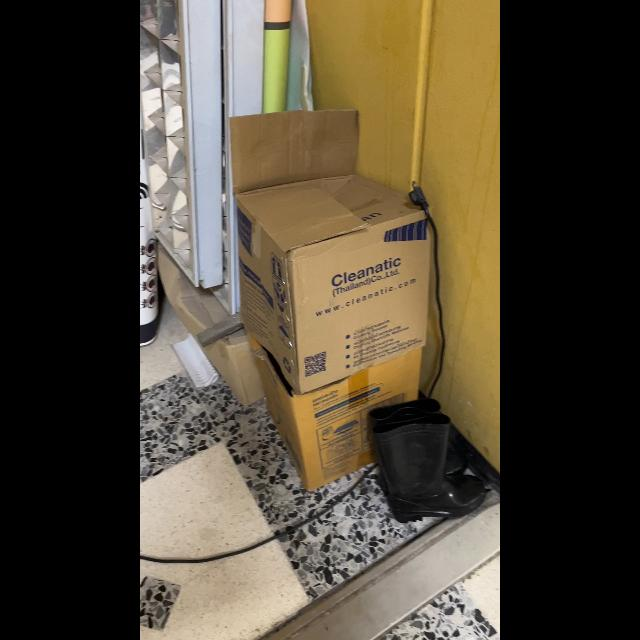cardboard_box: (227, 111, 443, 396)
